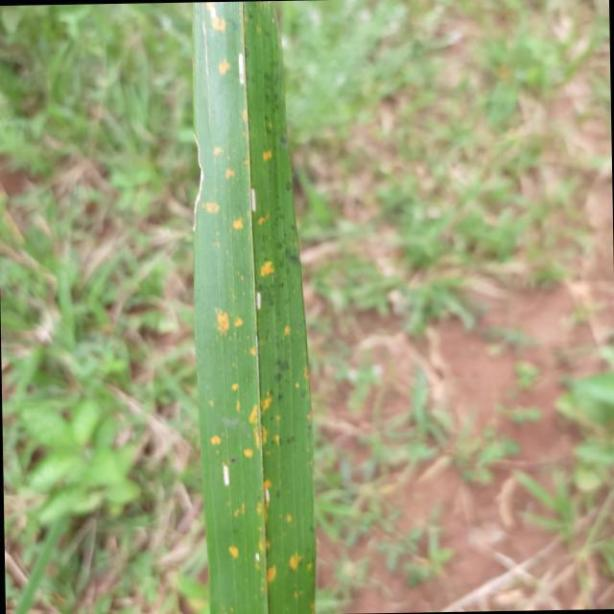Kalium: (187, 0, 317, 614)
